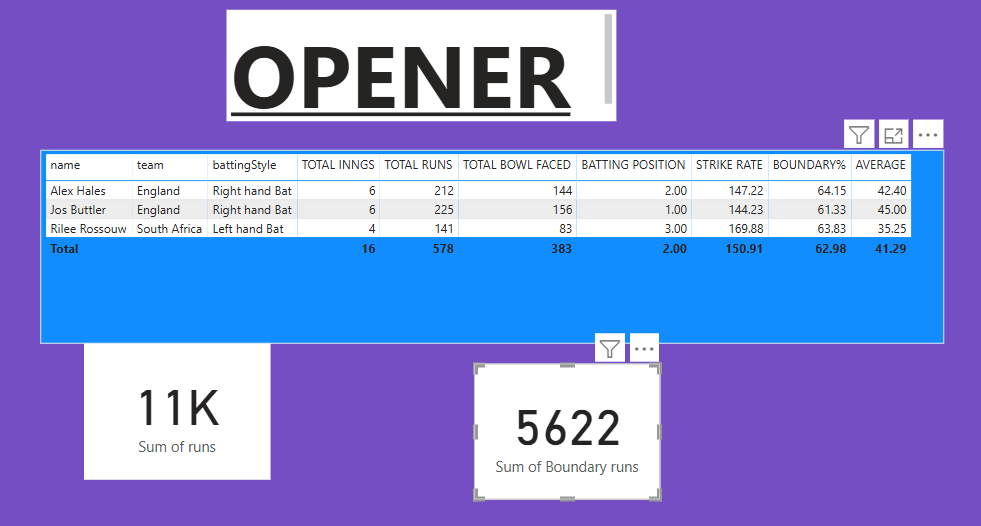

The dashboard page shown, as its layout file describes it:
{"tool":"powerbi","page":{"name":"OPENER","canvas":[1280,720],"ordinal":0},"visuals":[{"type":"tableEx","fields":{"Values":["player_info.name","player_info.team","player_info.battingStyle","Table.TOTAL INNGS","Table.TOTAL RUNS","Table.TOTAL BOWL FACED","Table.BATTING POSITION","Table.STRIKE RATE","Table.BOUNDARY%","Table.AVERAGE"]},"box":[144.1,253.9,992.1,212.7],"z":0},{"type":"textbox","box":[348.5,42.5,428.1,122.1],"z":1},{"type":"card","fields":{"Values":["Sum(batting_info.runs)"]},"box":[144.1,526.9,204.5,149.6],"z":2},{"type":"card","fields":{"Values":["Sum(batting_info.Boundary runs)"]},"box":[639.5,526.9,204.5,149.6],"z":4}]}

Visuals, with their boxes on the page's 1280x720 design canvas (x1, y1, x2, y2). These are canvas units, not pixel positions in the 981x526 screenshot, which may show the page scaled, cropped or inside an application window:
tableEx - player_info.name x player_info.team: [x1=144, y1=254, x2=1136, y2=467]
textbox: [x1=348, y1=42, x2=777, y2=165]
card - Sum(batting_info.runs): [x1=144, y1=527, x2=349, y2=676]
card - Sum(batting_info.Boundary runs): [x1=640, y1=527, x2=844, y2=676]
